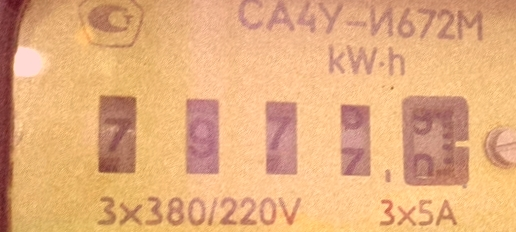0: (412, 148, 436, 178)
7: (100, 111, 135, 157), (339, 137, 370, 180), (265, 111, 295, 153)
9: (186, 113, 218, 161), (409, 105, 440, 137)
screen: (83, 72, 488, 209)
